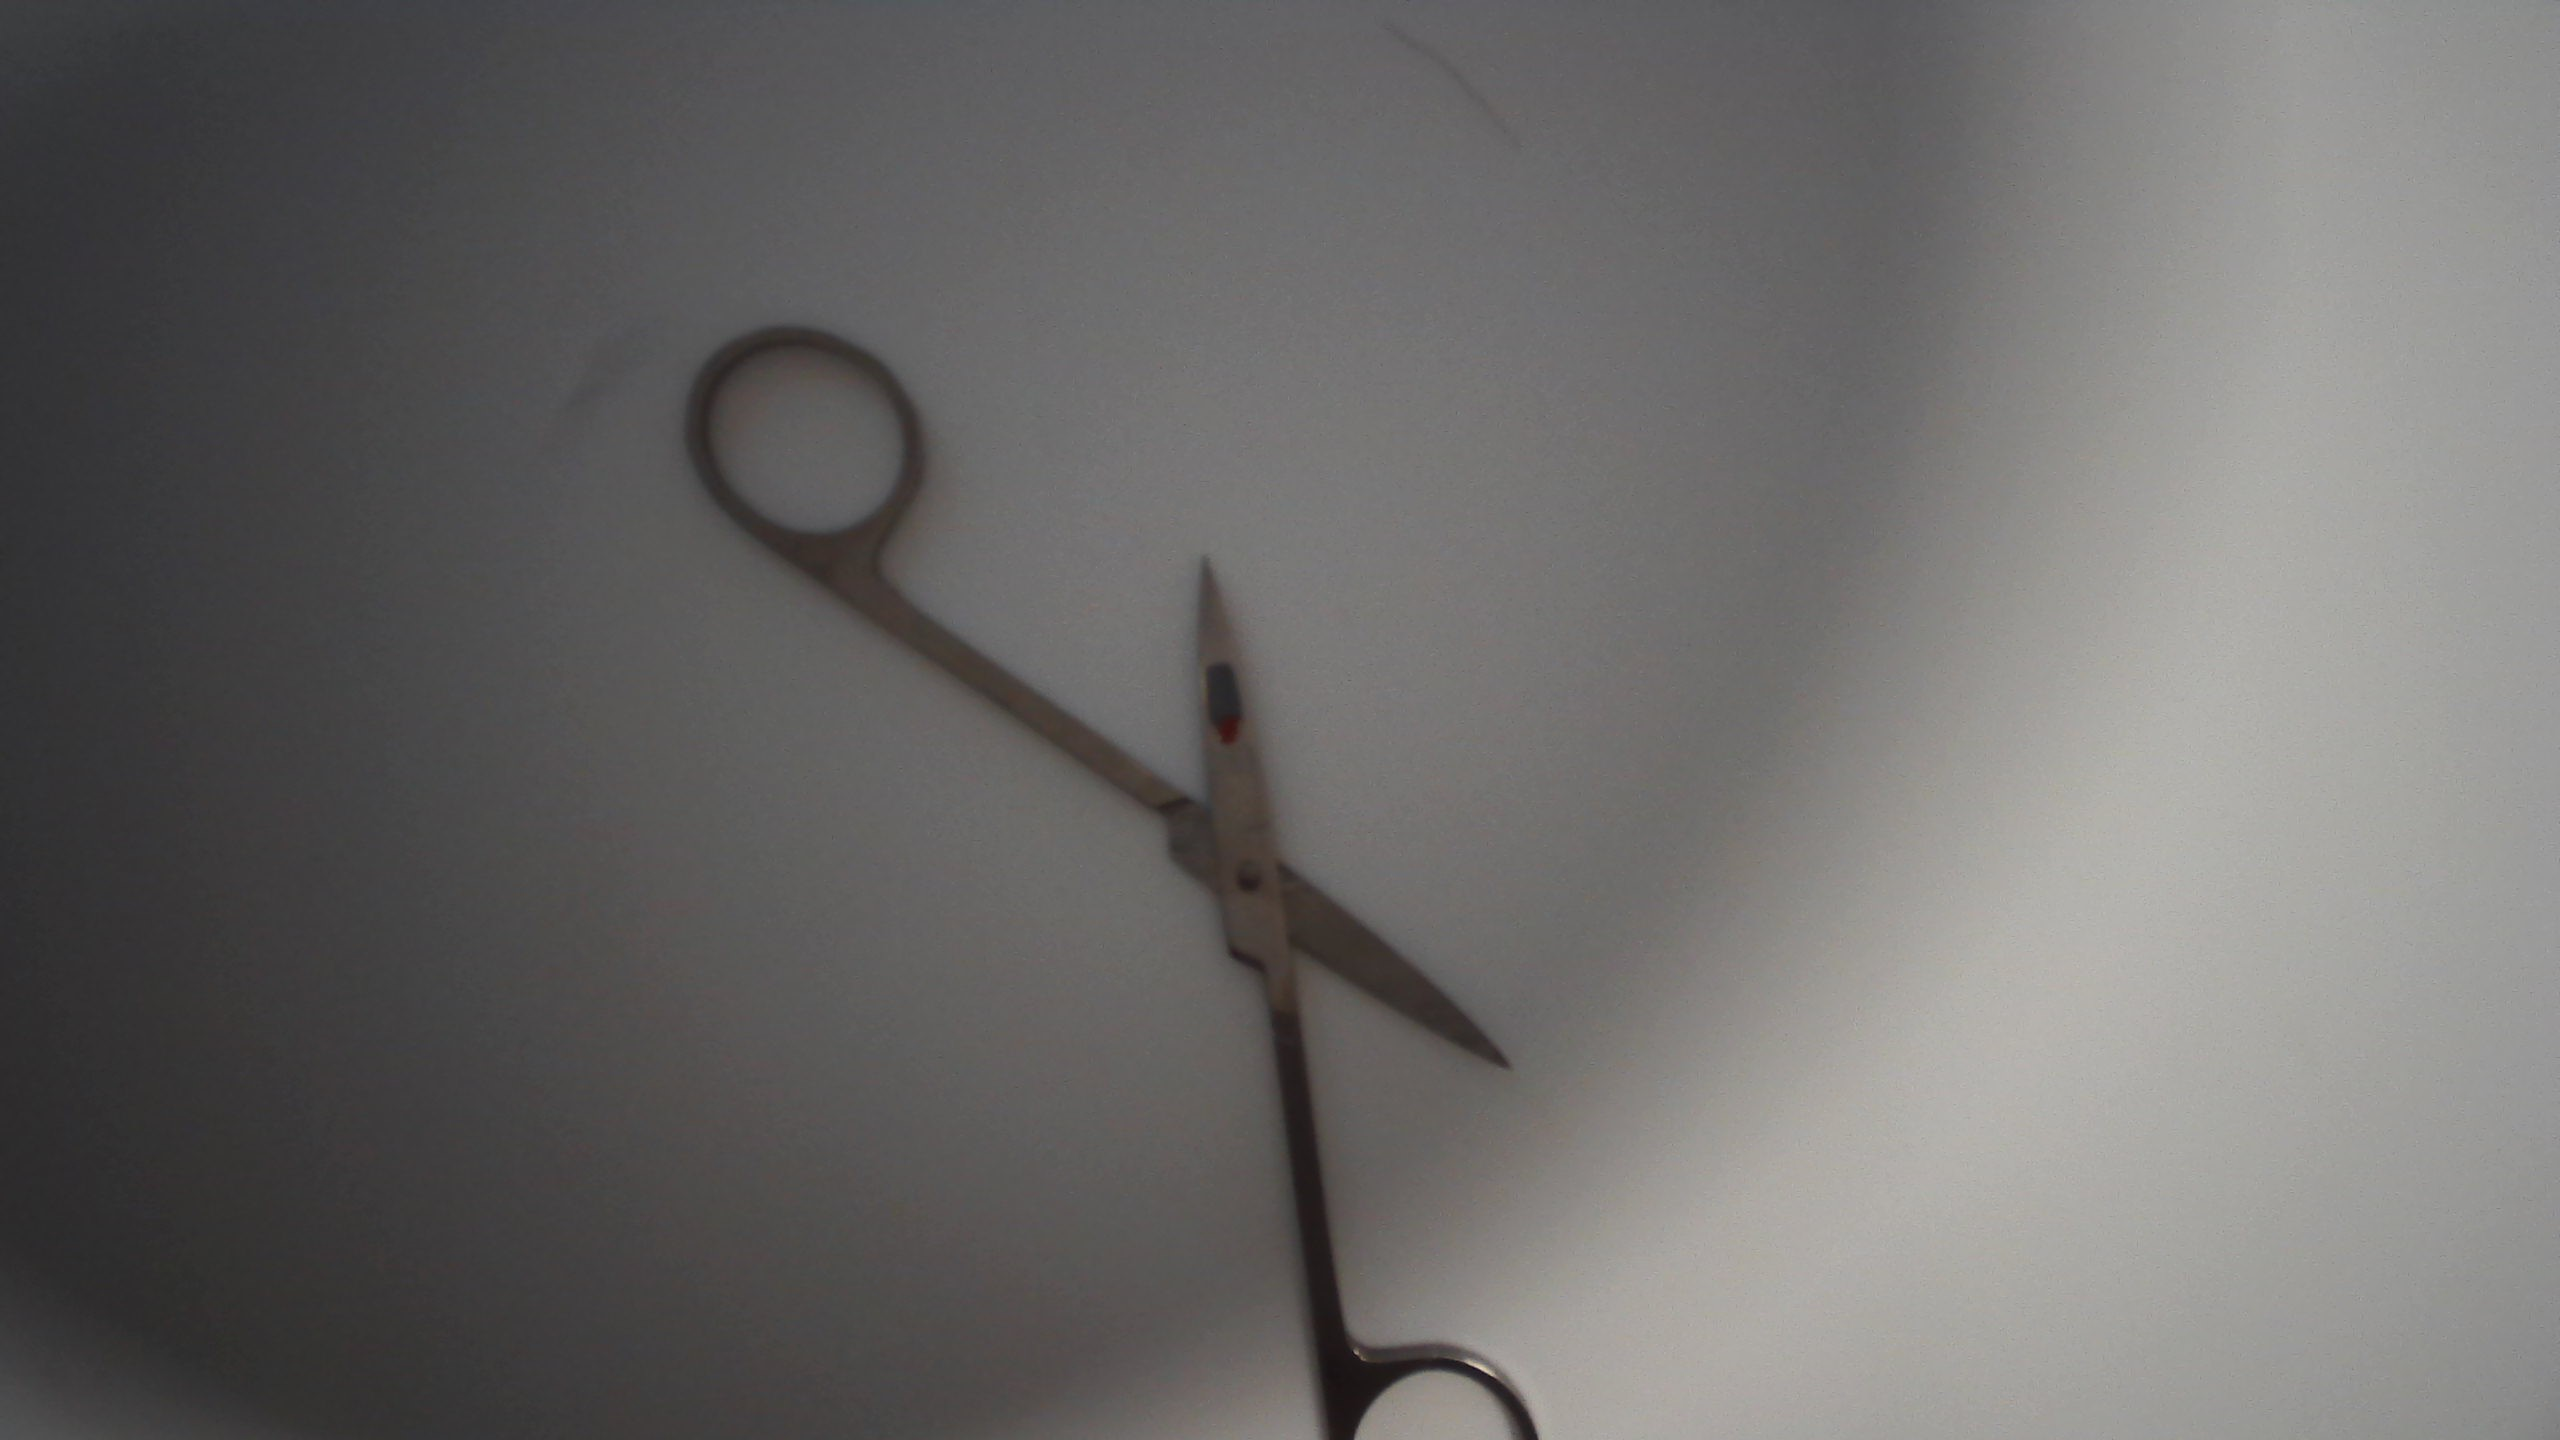Stain: (1189, 652, 1255, 756)
